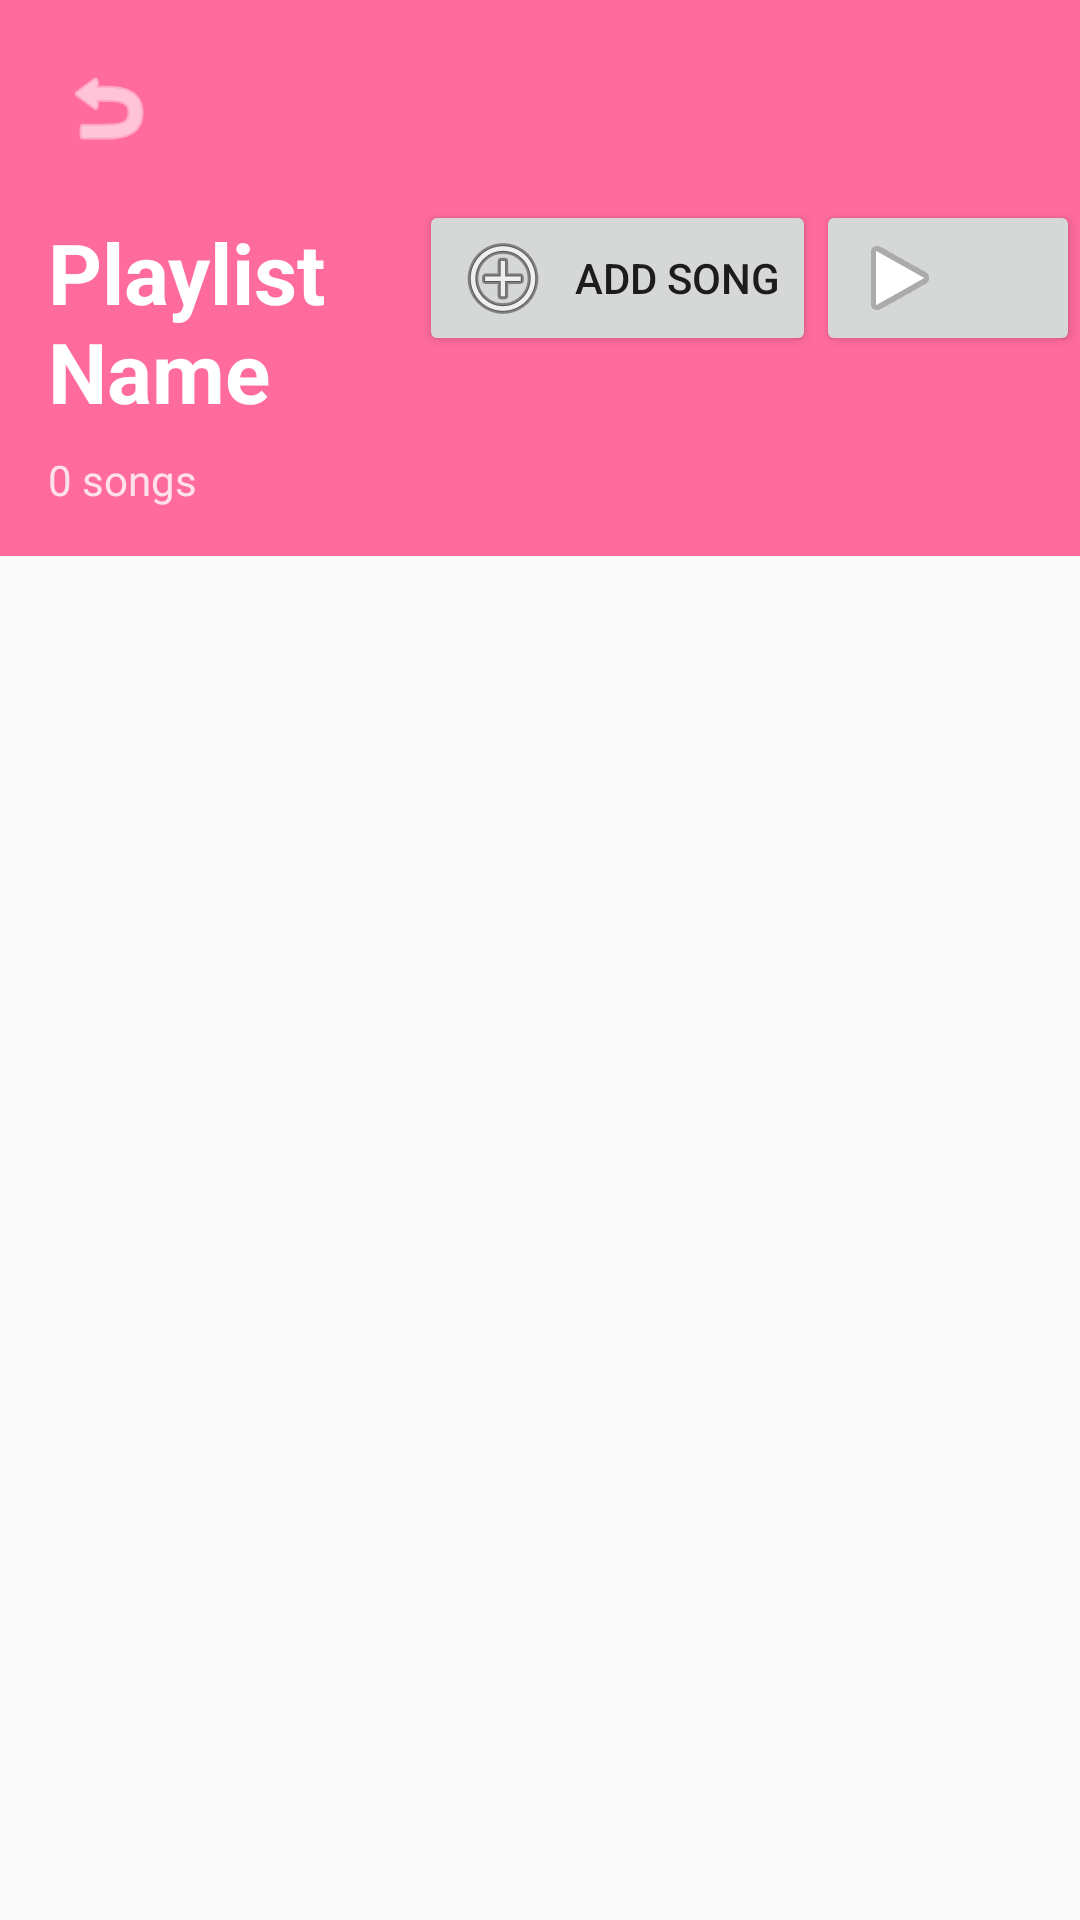

Icon bounding boxes for this 1080 × 1920 phone screenshot, format (x1, y1, x2, y2):
revert: (75, 78, 144, 140)
